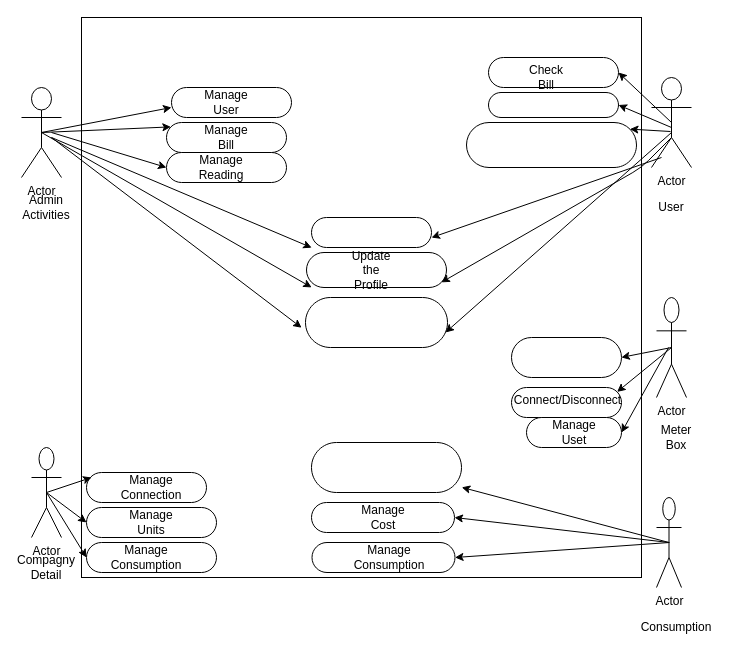
Image size: 729x655. Some labels were removed from this diagram. The shapes that lost their labels are listed below. From the top down, each one's box as (x1, y1, x2, y2) in pixels, then its label:
(488, 92, 618, 118): Make payment
(466, 122, 636, 168): Check Bill Summary
(310, 216, 432, 248): Login&logout System
(304, 296, 448, 348): Change Account Passwd
(510, 336, 622, 378): Manage Electricity Active
(310, 442, 462, 492): Manage Current Reading
